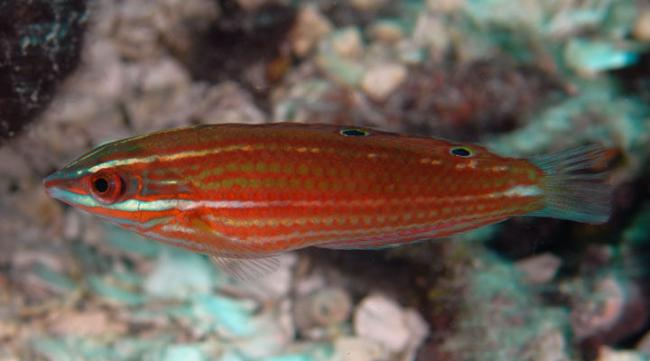fish: (42, 120, 610, 285)
